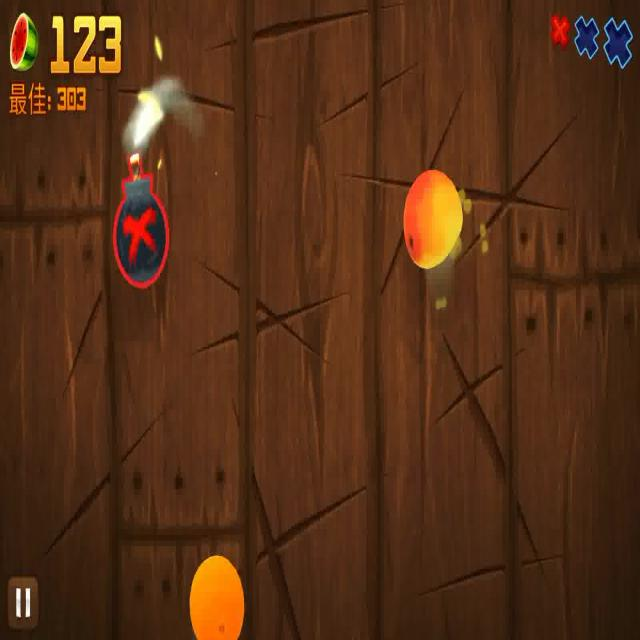bomb: (111, 148, 168, 286)
fruit: (402, 166, 461, 271), (187, 554, 245, 640)
